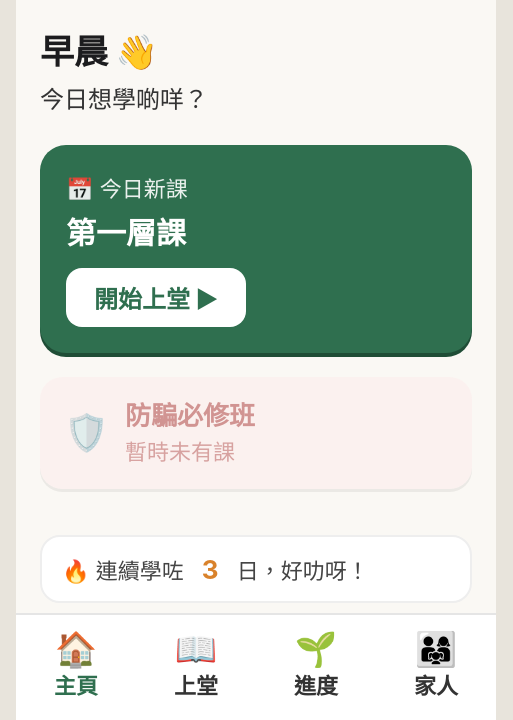
it: App course engine (elder) › navigating to a different tab and back to 上堂 shows the list again, not the previously-open lesson
The width and height of the screenshot is (513, 720).
Click the button "📖 上堂": (196, 667) [136, 615, 256, 719]
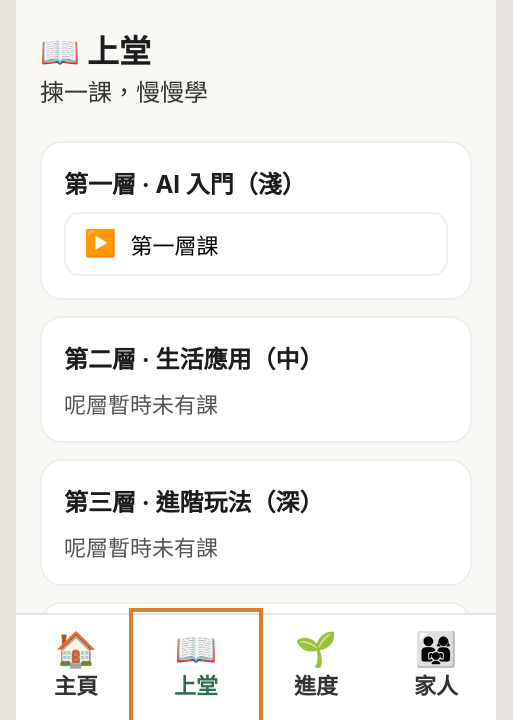
Check: the text "揀一課，慢慢學" is shown, box [40, 78, 208, 107]
Click the text "第一層課": (174, 246) [130, 234, 218, 259]
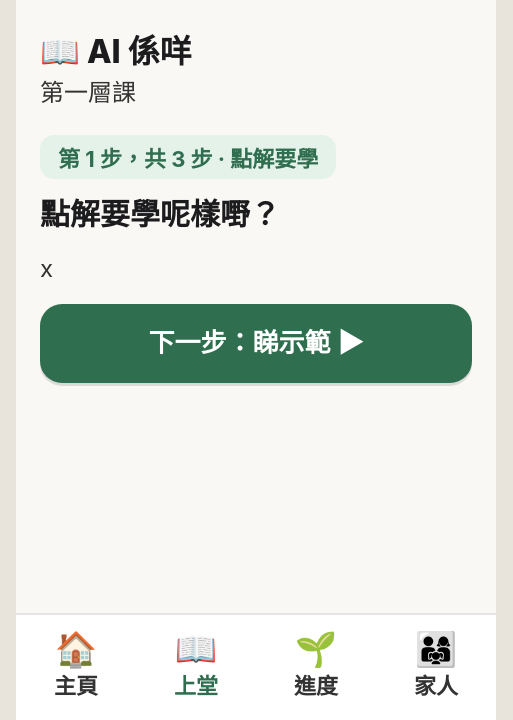
Check: the text "揀一課，慢慢學" is gone
Check: the heading "點解要學呢樣嘢？" is shown, box [40, 196, 280, 232]
Click the button "🏠 主頁": (76, 667) [16, 615, 136, 719]
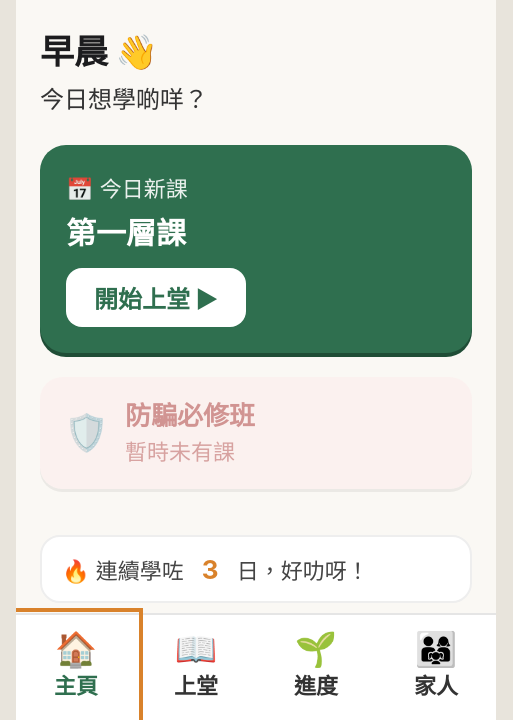
Click the button "📖 上堂": (196, 667) [136, 615, 256, 719]
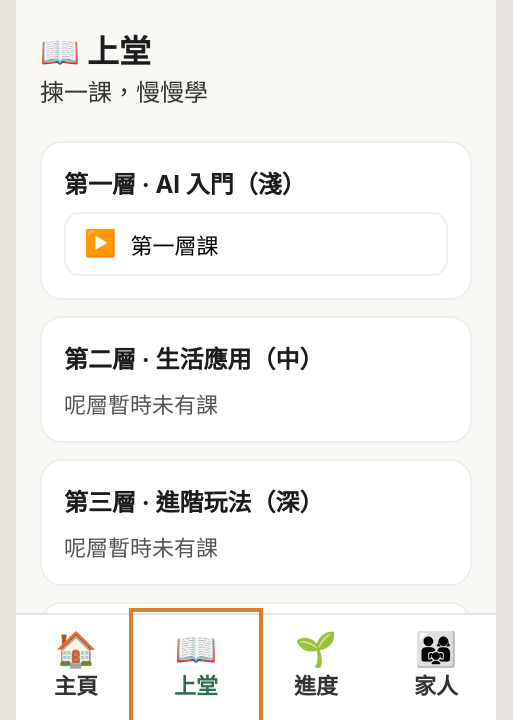
Check: the text "揀一課，慢慢學" is shown, box [40, 78, 208, 107]
